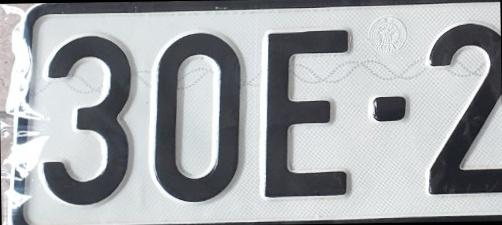-: (372, 96, 406, 120)
0: (156, 34, 239, 203)
2: (428, 25, 502, 194)
3: (48, 36, 128, 209)
E: (266, 33, 348, 196)
